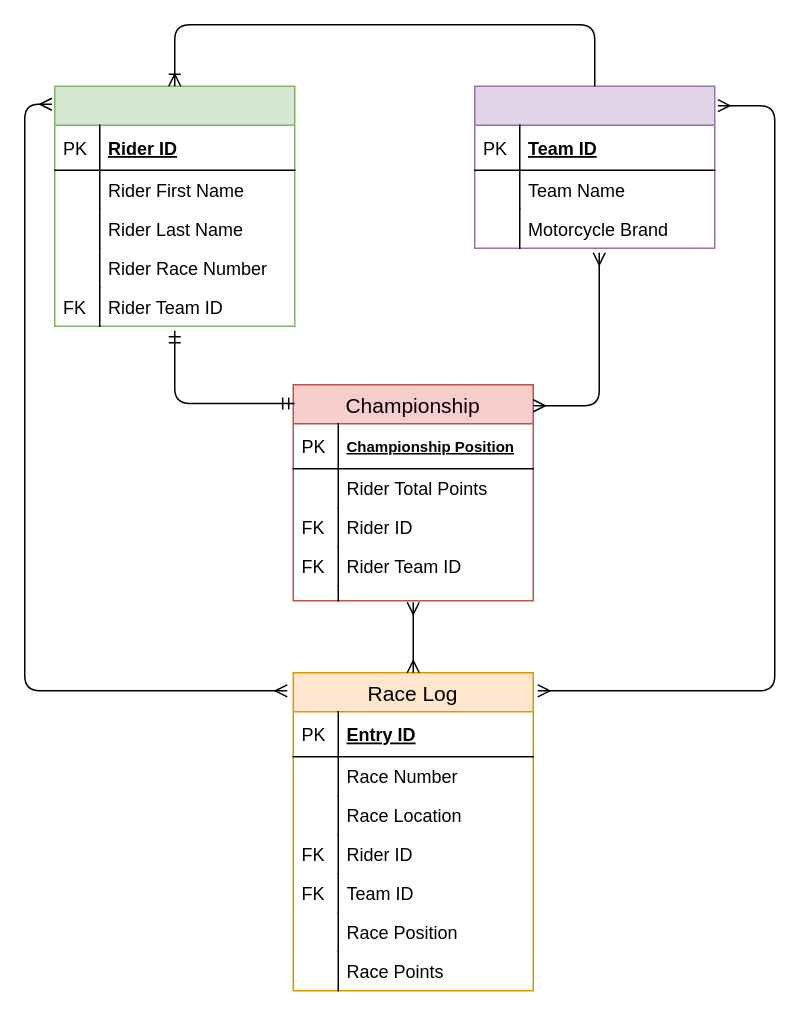
Some shapes in this 800 by 1016 pixel diagram are drawn without their labels. The box of each missing label's shape, as (x1, y1, x2, y2) in pixels:
Riders: (53, 85, 295, 326)
Teams: (473, 85, 715, 248)
